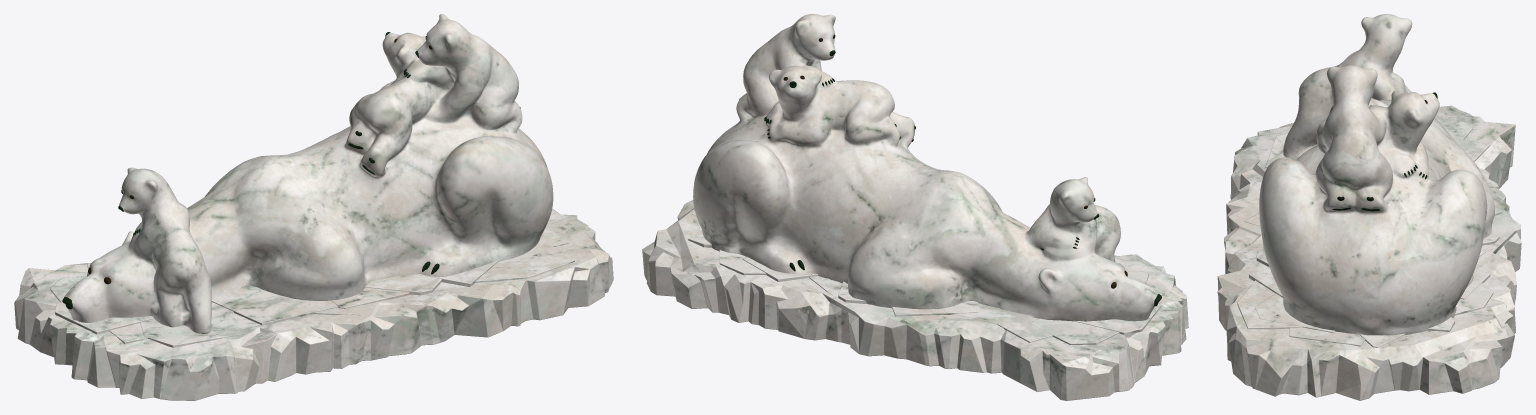
The picture shows the model from 3 angles, left to right: view 1: azimuth 30°, elevation 25°; view 2: azimuth 150°, elevation 25°; view 3: azimuth 270°, elevation 25°; orthographic projection. The views are drawn at different scales.
Visible parts, largest first — view 1: statue33990; view 2: statue33990; view 3: statue33990.
Part boxes in pixels (x1,y1,x2,y2): statue33990: (14,14,613,400); statue33990: (642,14,1188,400); statue33990: (1217,14,1521,400).
Size of the model in its own units: 0.6606 by 0.3198 by 0.3311.
Materials: 1 (1 with a texture image).
